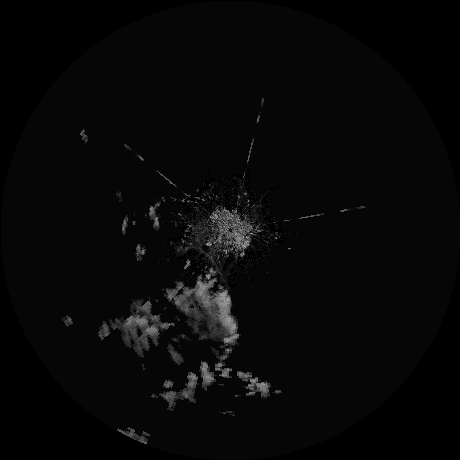frontgust: (181, 246, 224, 286)
